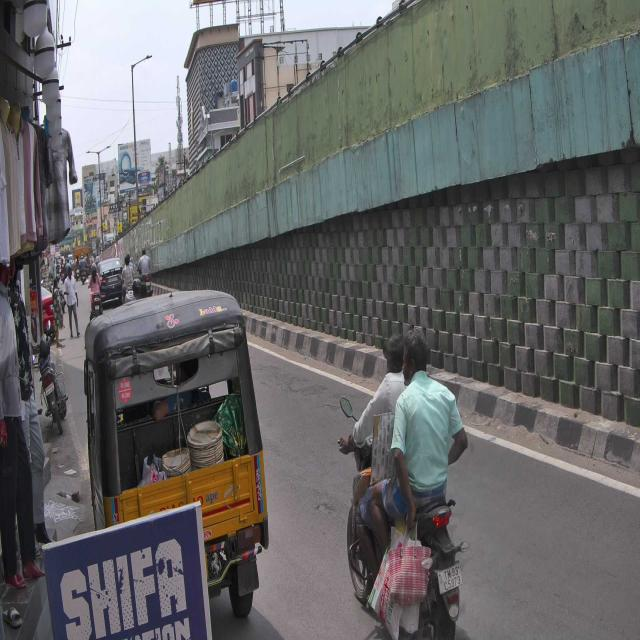double_rider: (337, 328, 469, 640)
